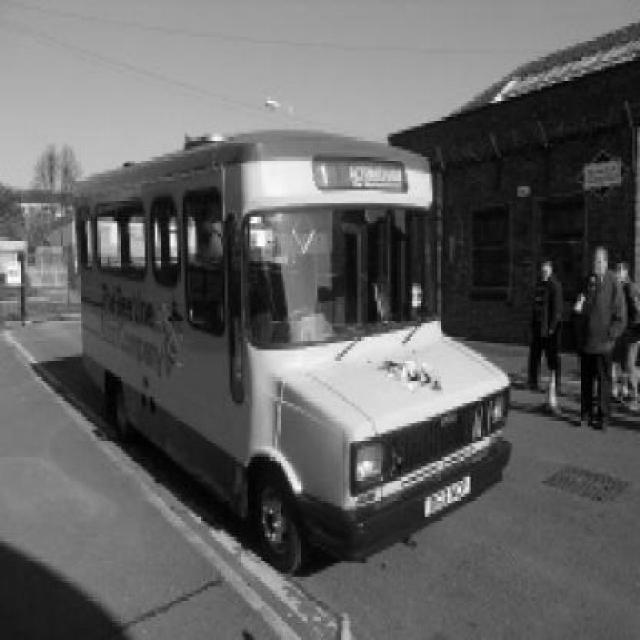Bus- Small: (72, 131, 513, 576)
